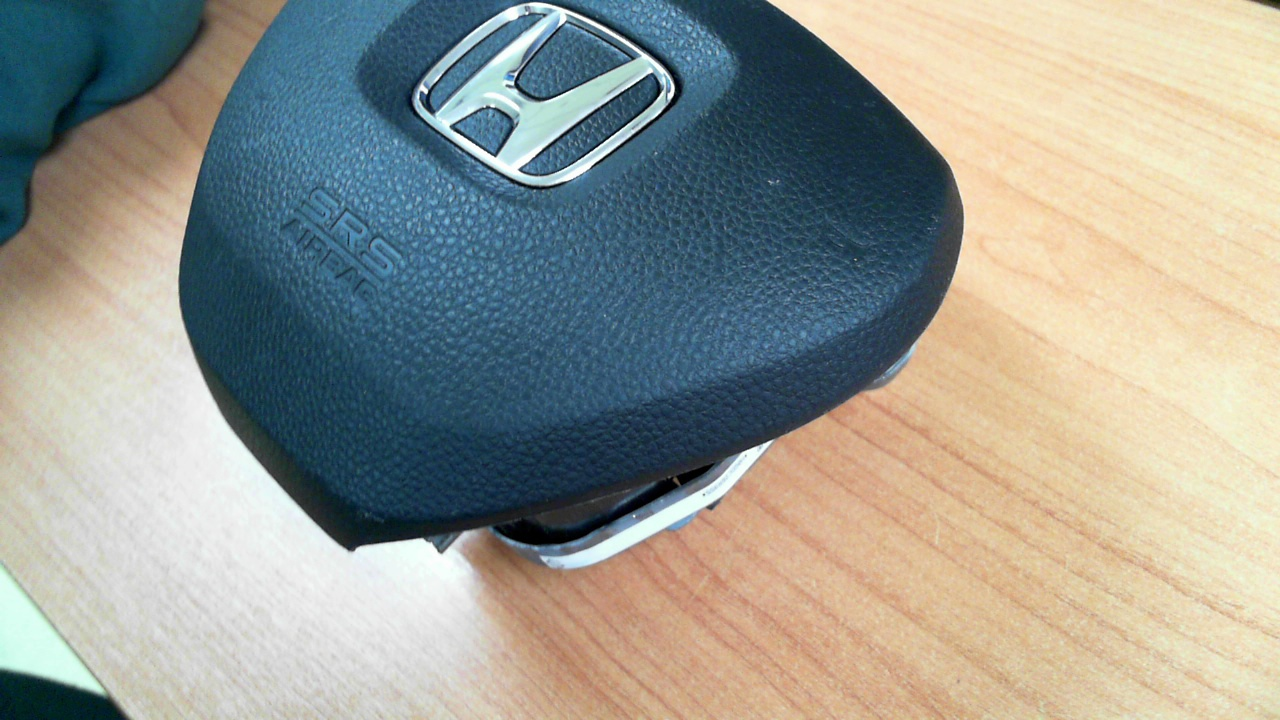Airbag: (177, 7, 967, 573)
Honda: (411, 1, 676, 188)
